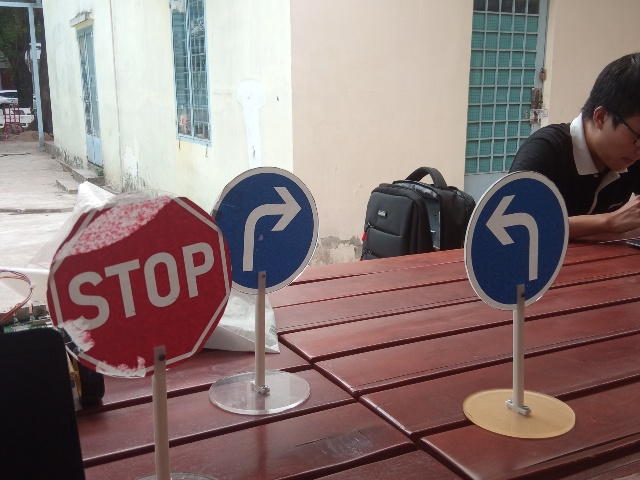Left_Sign: (465, 172, 569, 310)
Right_Sign: (212, 167, 319, 296)
Stop_Sign: (46, 190, 232, 379)
